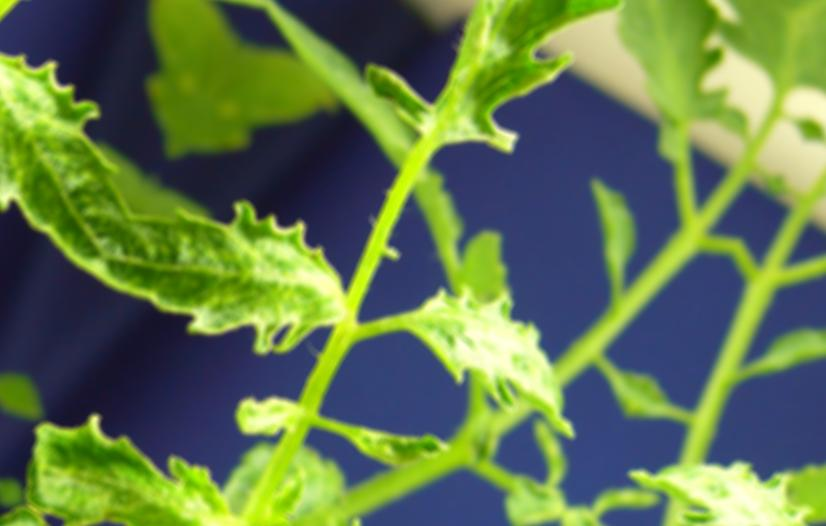Tomato leaf mosaic virus: (74, 128, 386, 431), (344, 0, 655, 204), (381, 246, 632, 467), (0, 340, 276, 526)
